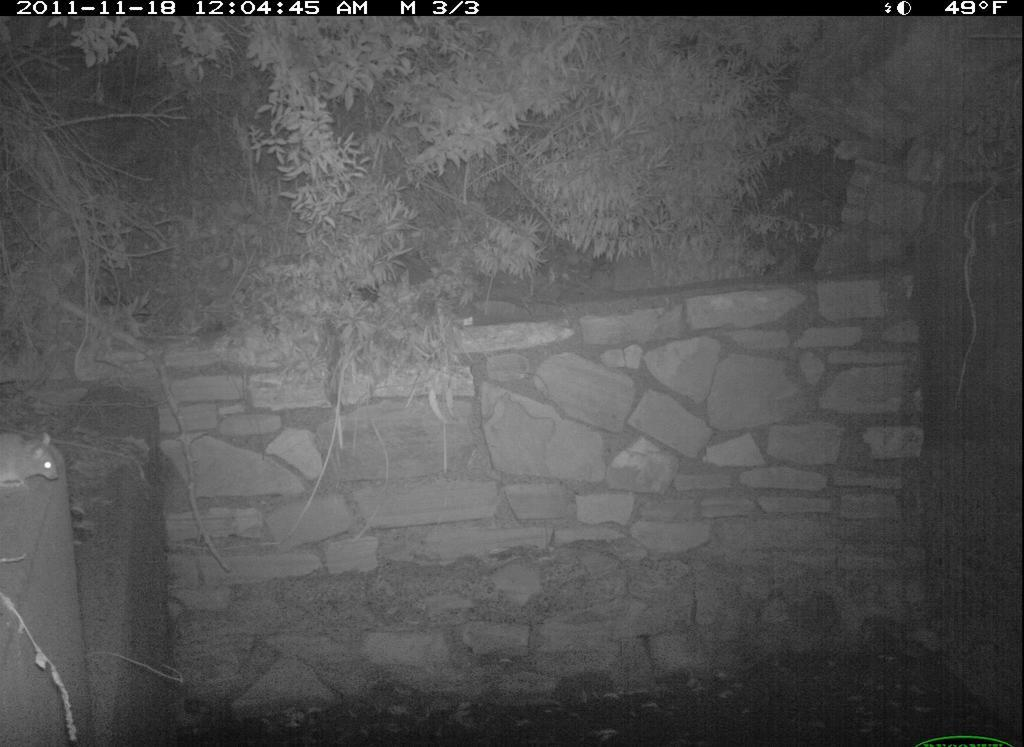rodent: (1, 431, 70, 501)
